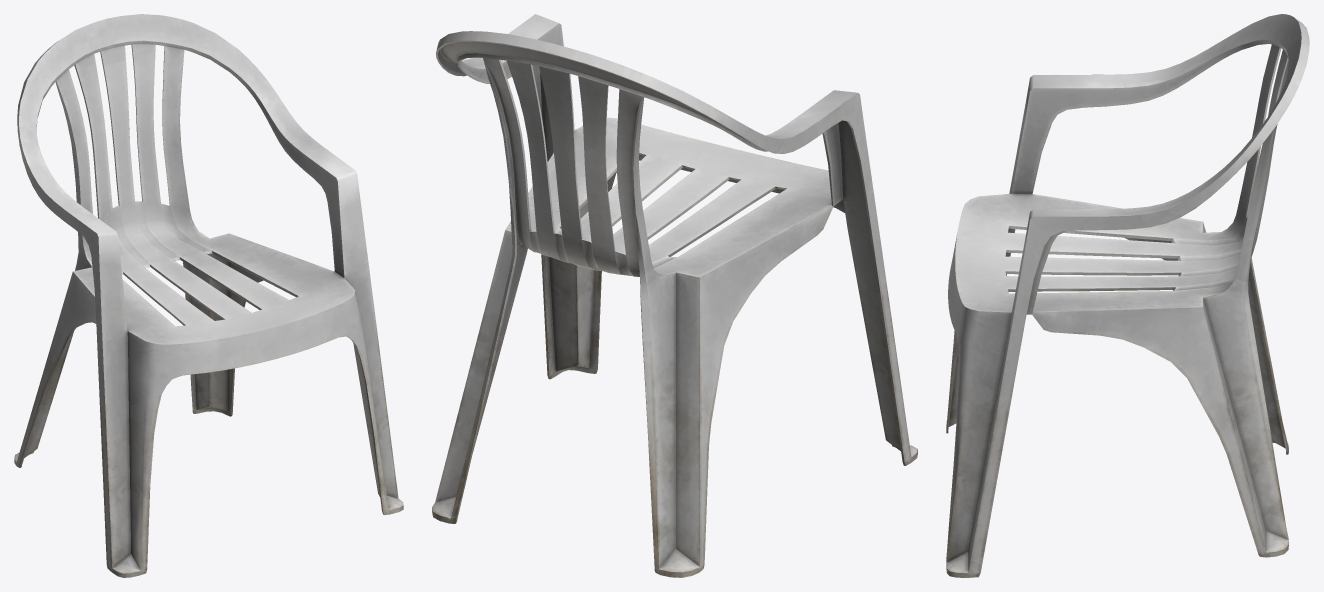
Rendered from ph_monobloc.glb.
3 views of the same model, side by side, from view 1: azimuth 30°, elevation 25°; view 2: azimuth 150°, elevation 25°; view 3: azimuth 270°, elevation 25° (orthographic). The views are drawn at different scales.
Visible parts, largest first — view 1: plastic_monobloc_chair_01; view 2: plastic_monobloc_chair_01; view 3: plastic_monobloc_chair_01.
Part boxes in pixels (x1,y1,x2,y2): plastic_monobloc_chair_01: [14, 14, 403, 577]; plastic_monobloc_chair_01: [432, 14, 917, 577]; plastic_monobloc_chair_01: [946, 14, 1309, 577].
Size of the model in its own units: 0.6419 by 0.8798 by 0.6277.
Materials: 1 (1 with a texture image).
